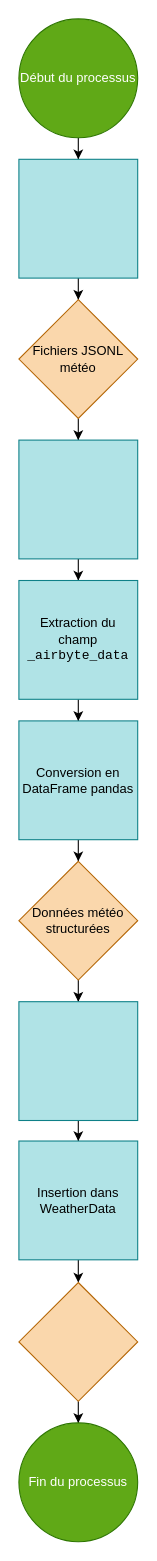
Image size: 157x1561. Some labels were removed from this diagram. Here are the shapes that lost their labels. From the top down, the centre of each, then its label:
At [78,218]: "Connexion au bucket S3 AWS".
At [78,499]: "Lecture des fichiers JSONL".
At [78,1060]: "Connexion MongoDB Atlas".
